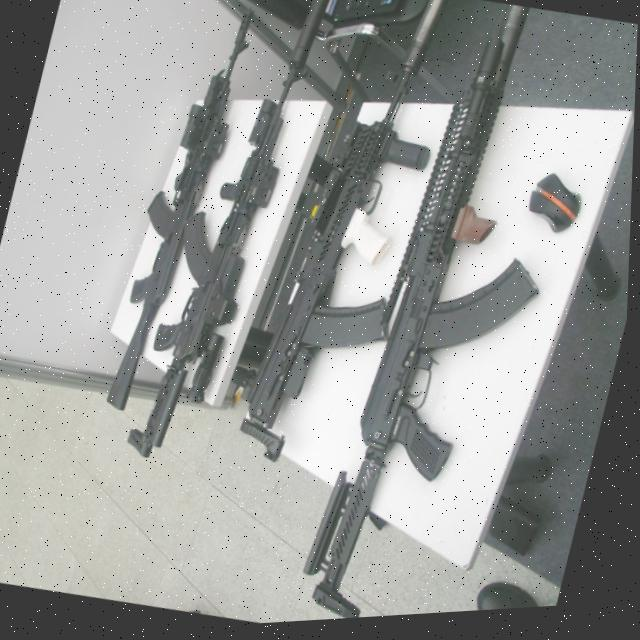firearm: (295, 0, 607, 625), (233, 0, 472, 485), (125, 0, 338, 476), (99, 0, 260, 422)
